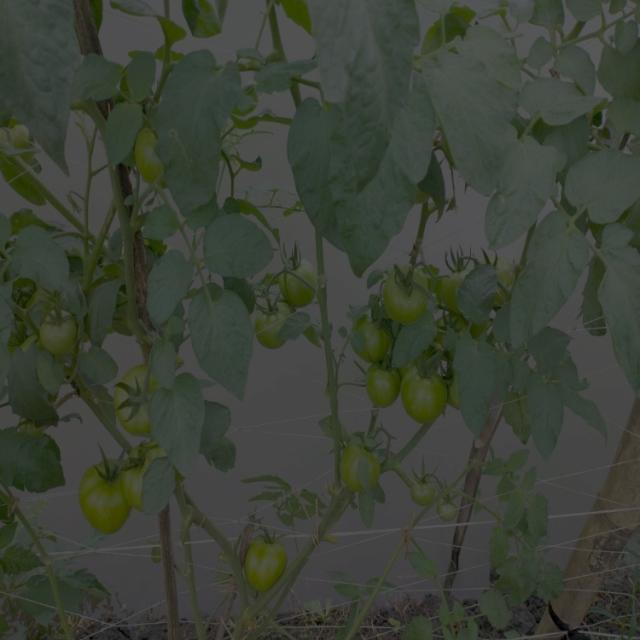tomato: (78, 463, 136, 537), (378, 258, 432, 323), (238, 531, 291, 592), (404, 362, 454, 425), (117, 365, 160, 438), (337, 442, 386, 502), (42, 307, 88, 357), (353, 312, 394, 366), (250, 297, 286, 357), (134, 126, 170, 183), (438, 256, 467, 314), (281, 259, 314, 305), (359, 364, 394, 403), (1, 119, 34, 151), (411, 476, 441, 506), (496, 265, 517, 306), (433, 498, 460, 519)
